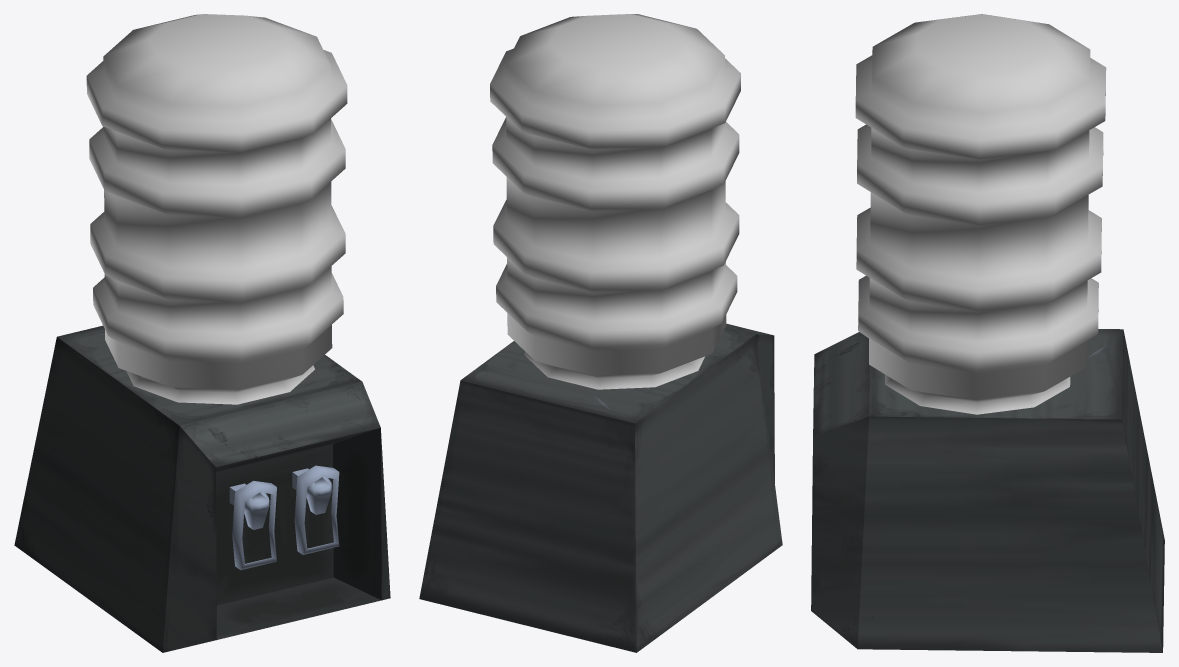
The model's file is assetspt2 (2).fbx_WaterGallon.fbx.
The picture shows the model from 3 angles, left to right: view 1: azimuth 30°, elevation 25°; view 2: azimuth 150°, elevation 25°; view 3: azimuth 270°, elevation 25°; orthographic projection. The views are drawn at different scales.
Visible parts, largest first — view 1: WaterGallon; view 2: WaterGallon; view 3: WaterGallon.
Part boxes in pixels (left/top/right/bottom): WaterGallon: left=14, top=14, right=390, bottom=652; WaterGallon: left=419, top=14, right=782, bottom=652; WaterGallon: left=811, top=14, right=1164, bottom=652.
Bounding box in the file's own units: 129 × 293 × 170.
